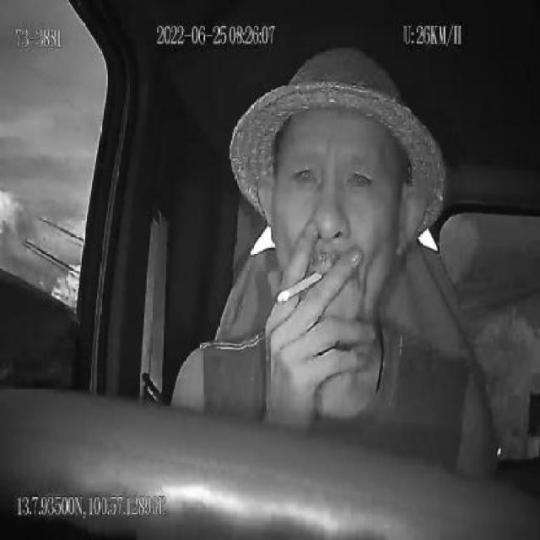smoking: (277, 268, 323, 304)
